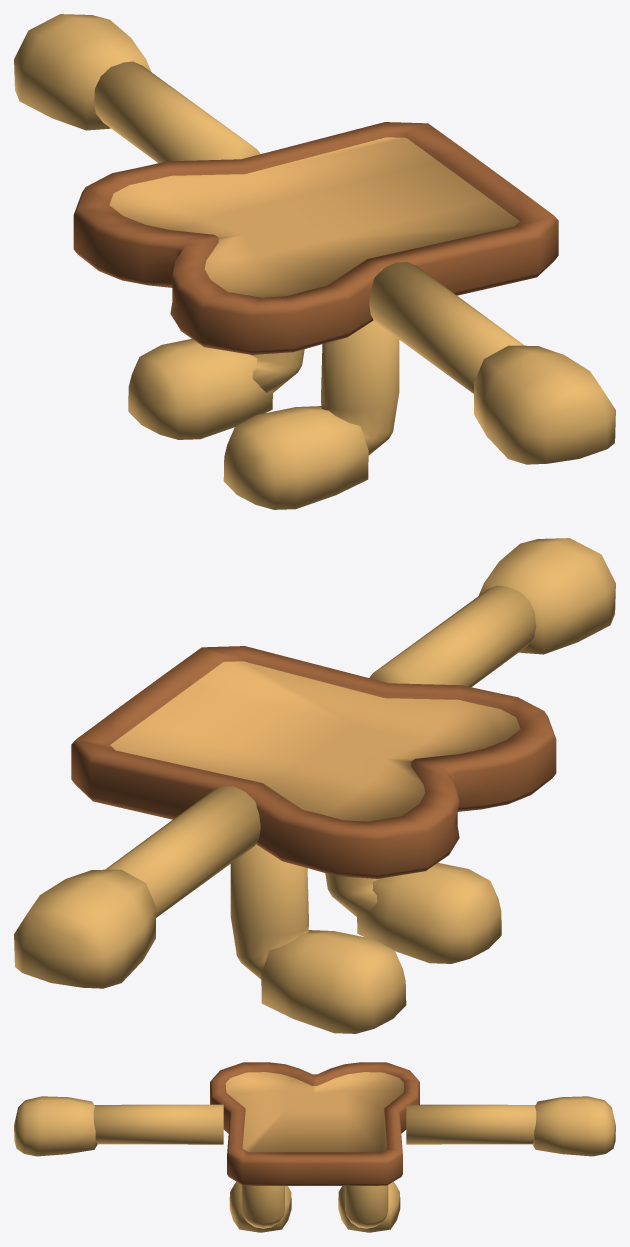
File: Old Sandwich bottom bitch.fbx
3 renders of one model, top to bottom at view 1: azimuth 30°, elevation 25°; view 2: azimuth 150°, elevation 25°; view 3: azimuth 270°, elevation 25°, orthographic. The views are drawn at different scales.
Parts seen in each view (by area): view 1: Sandwich bottom.001; view 2: Sandwich bottom.001; view 3: Sandwich bottom.001.
Boxes of the visible parts, box(x1,y1,x2,y2) form: Sandwich bottom.001: box(14, 14, 615, 509); Sandwich bottom.001: box(14, 538, 615, 1033); Sandwich bottom.001: box(14, 1062, 615, 1232).
Size of the model in its own units: 265 by 170 by 679.
